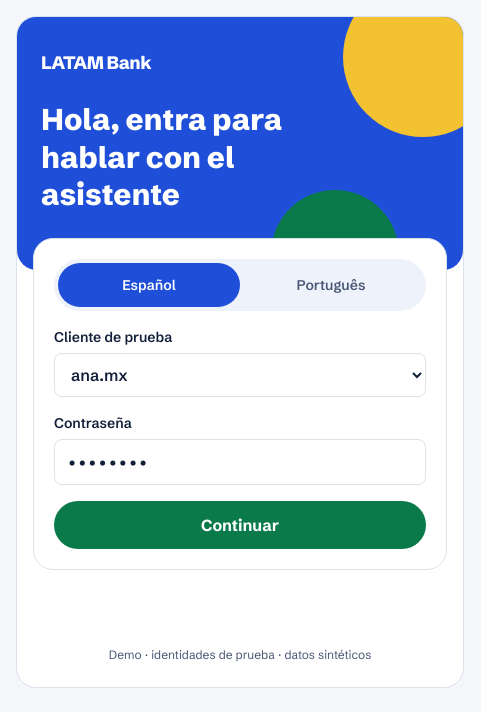
Test: LoginForm › clears busy and shows the error when fetch rejects
The width and height of the screenshot is (481, 712).
What coordinates should you click on to do the following:
click the button "Continuar"
I would click on:
 (240, 524)
Its box is [54,500,426,548].
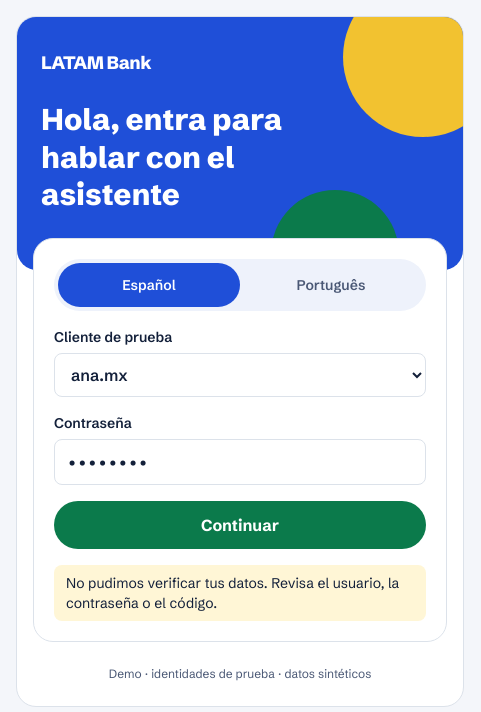
Expected: the message shows "No pudimos verificar tus datos", [66,574,399,612]
